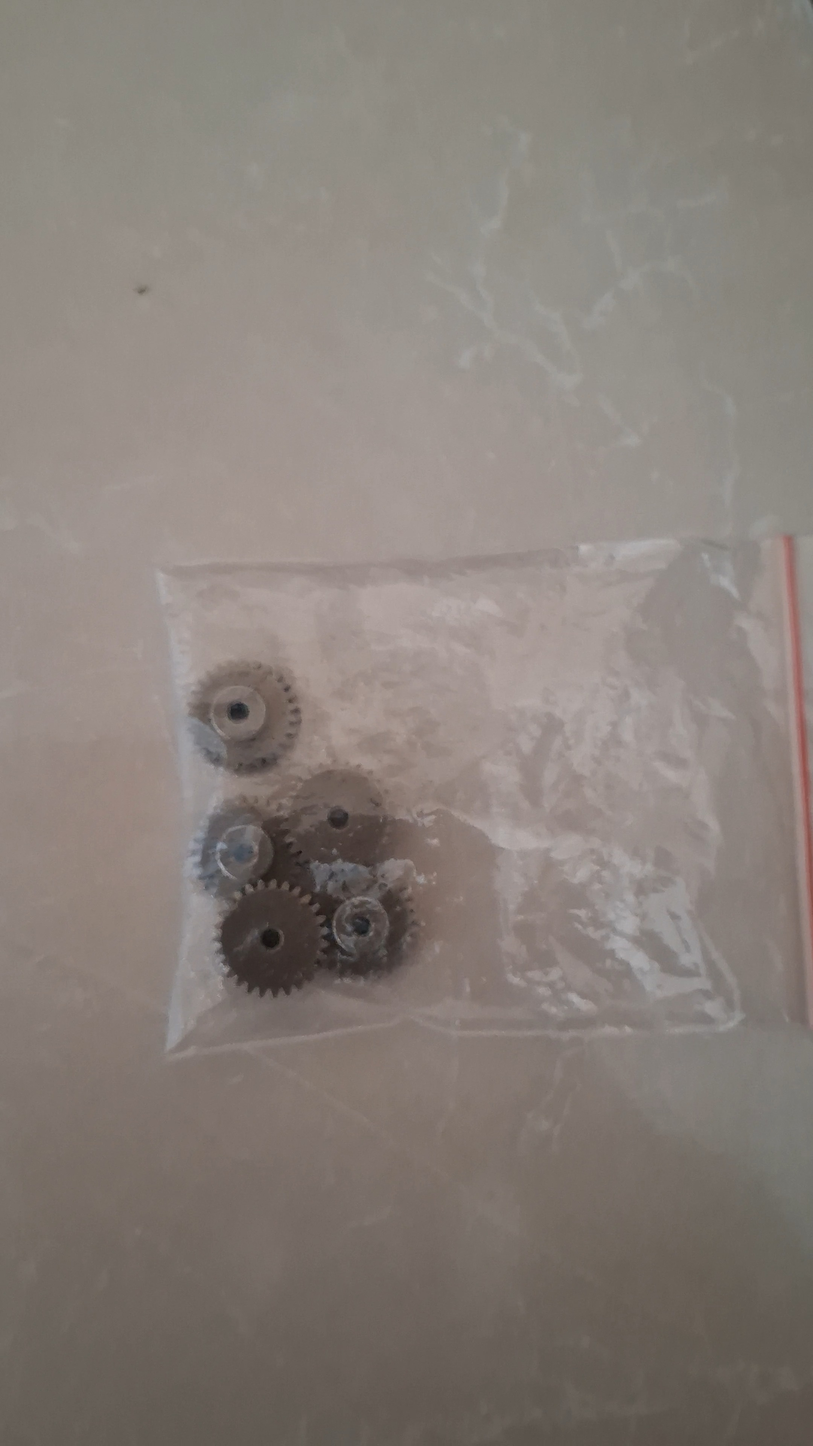spur gear: (188, 662, 301, 772), (219, 881, 326, 995), (286, 770, 390, 866), (193, 799, 274, 898), (331, 882, 416, 974)
